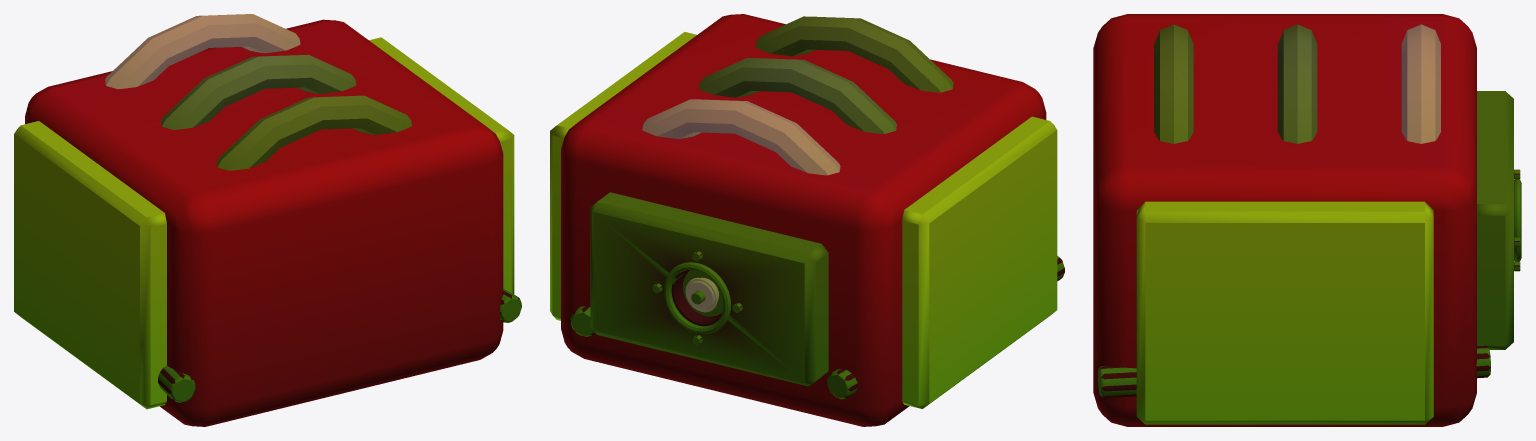
File: RCLModule_gravitas_breaker_quantum_hyperdrive_alloy_sponsons.fbx
The picture shows the model from 3 angles, left to right: view 1: azimuth 30°, elevation 25°; view 2: azimuth 150°, elevation 25°; view 3: azimuth 270°, elevation 25°; orthographic projection. The views are drawn at different scales.
Parts seen in each view (by area): view 1: RCLModule_gravitas_breaker_quantum_hyperdrive_alloy_sponsons (×3); view 2: RCLModule_gravitas_breaker_quantum_hyperdrive_alloy_sponsons (×3); view 3: RCLModule_gravitas_breaker_quantum_hyperdrive_alloy_sponsons (×3).
Boxes of the visible parts, x1=… form: RCLModule_gravitas_breaker_quantum_hyperdrive_alloy_sponsons (×3): x1=14, y1=14, x2=521, y2=426; RCLModule_gravitas_breaker_quantum_hyperdrive_alloy_sponsons (×3): x1=550, y1=14, x2=1064, y2=426; RCLModule_gravitas_breaker_quantum_hyperdrive_alloy_sponsons (×3): x1=1093, y1=14, x2=1521, y2=426.
Bounding box in the file's own units: 77.5 × 55.2 × 69.2.
